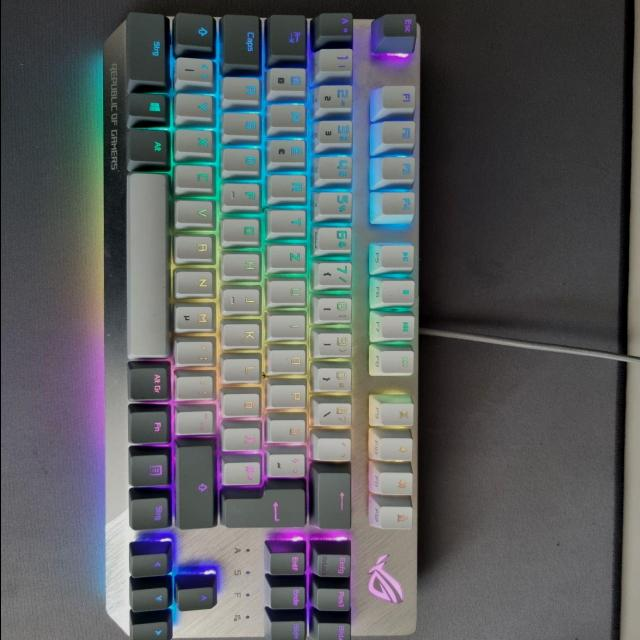0: (314, 364, 354, 392)
1: (315, 47, 355, 75)
2: (314, 84, 354, 112)
3: (315, 119, 355, 147)
4: (314, 155, 354, 183)
5: (313, 190, 353, 218)
6: (314, 225, 354, 253)
7: (315, 260, 355, 288)
8: (314, 296, 354, 324)
9: (314, 331, 354, 359)
a: (221, 75, 261, 103)
accent: (313, 435, 353, 463)
ae: (224, 426, 264, 451)
alt-left: (129, 128, 170, 164)
altgr-right: (130, 364, 172, 401)
b: (176, 233, 218, 263)
c: (176, 164, 217, 192)
caret: (318, 11, 355, 37)
comma: (176, 340, 217, 366)
d: (222, 147, 262, 175)
del: (316, 471, 354, 529)
e: (269, 138, 307, 168)
enter: (221, 486, 309, 528)
f: (223, 182, 263, 209)
g: (222, 217, 262, 245)
h: (223, 252, 263, 280)
hash: (224, 460, 264, 485)
i: (269, 313, 309, 339)
j: (223, 287, 264, 313)
k: (222, 321, 264, 349)
keyboard: (93, 4, 430, 640)
l: (223, 357, 263, 382)
less: (176, 56, 216, 85)
m: (176, 304, 218, 332)
minus: (178, 409, 216, 435)
n: (176, 268, 218, 297)
o: (269, 348, 309, 374)
oe: (223, 392, 263, 417)
p: (268, 382, 308, 410)
plus: (268, 453, 308, 477)
point: (177, 374, 217, 400)
q: (268, 66, 306, 96)
r: (268, 173, 306, 203)
s: (224, 112, 262, 142)
shift-left: (176, 10, 216, 48)
shift-lock: (222, 13, 262, 67)
shift-right: (177, 443, 217, 529)
space: (127, 171, 171, 359)
ss: (314, 399, 354, 427)
strg-left: (127, 10, 168, 88)
strg-right: (131, 495, 169, 529)
t: (270, 209, 308, 235)
tab: (269, 13, 309, 57)
u: (269, 279, 309, 305)
ue: (269, 418, 309, 446)
v: (177, 199, 217, 227)
w: (268, 103, 306, 133)
x: (176, 129, 216, 158)
y: (177, 93, 215, 121)
z: (269, 243, 309, 270)
